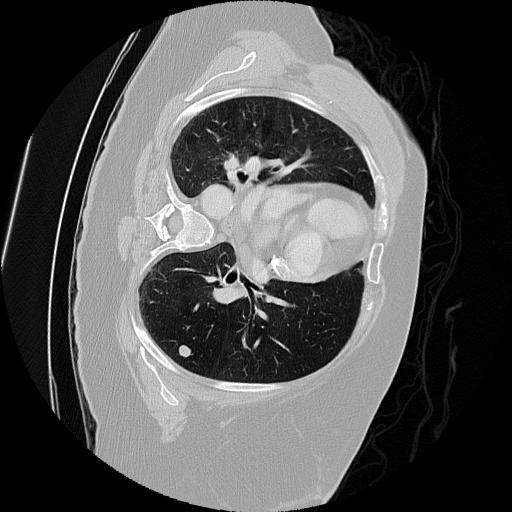nodule: (174, 343, 195, 364)
